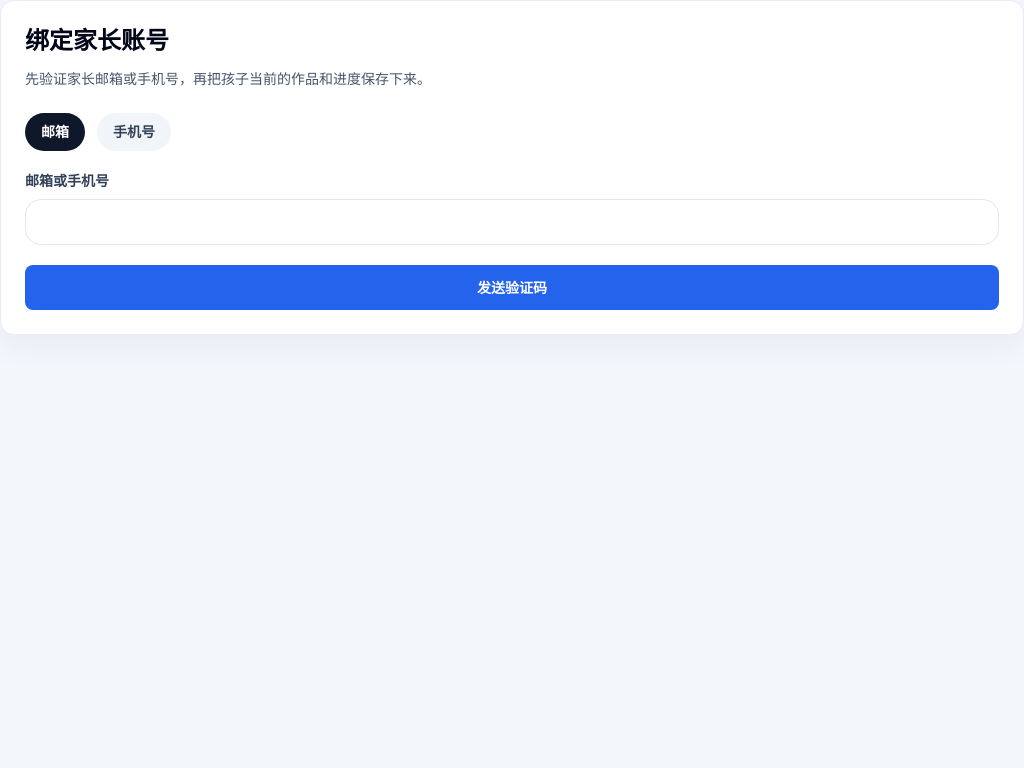
BindAccountForm › does not clear local progress when otp verification fails
Step 1. Type "family@example.com" into the field labelled "邮箱或手机号" → {"x": 512, "y": 222}, box [25, 199, 999, 245]
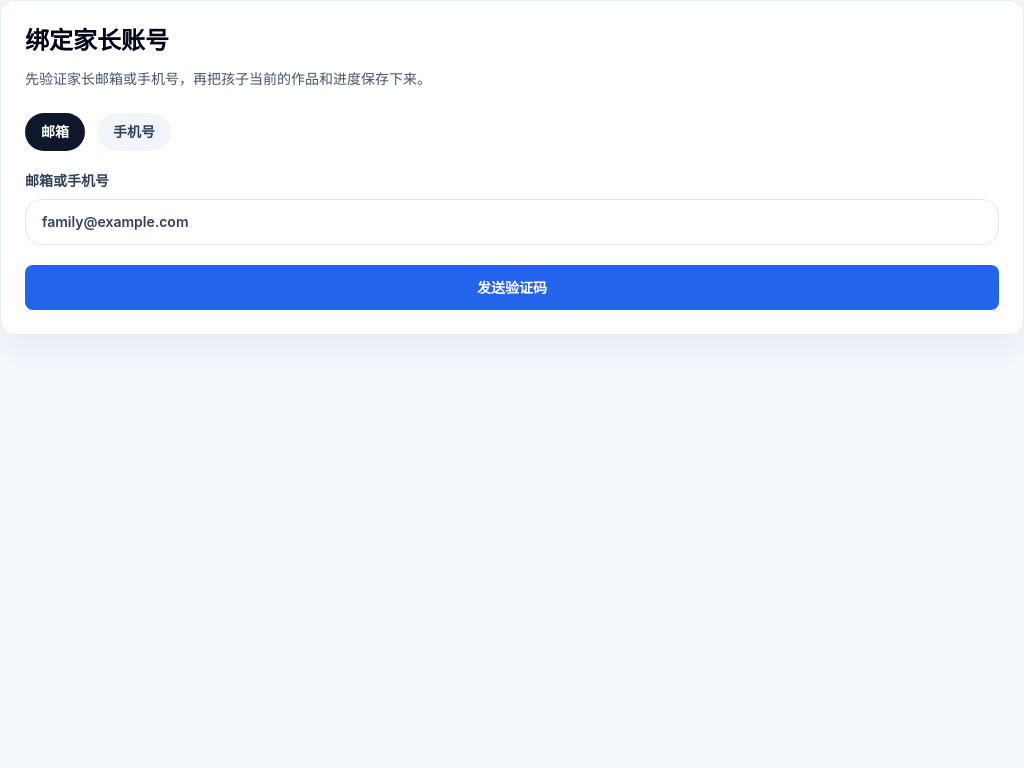
Step 2. Click the button "发送验证码" → {"x": 512, "y": 288}, box [25, 265, 999, 310]
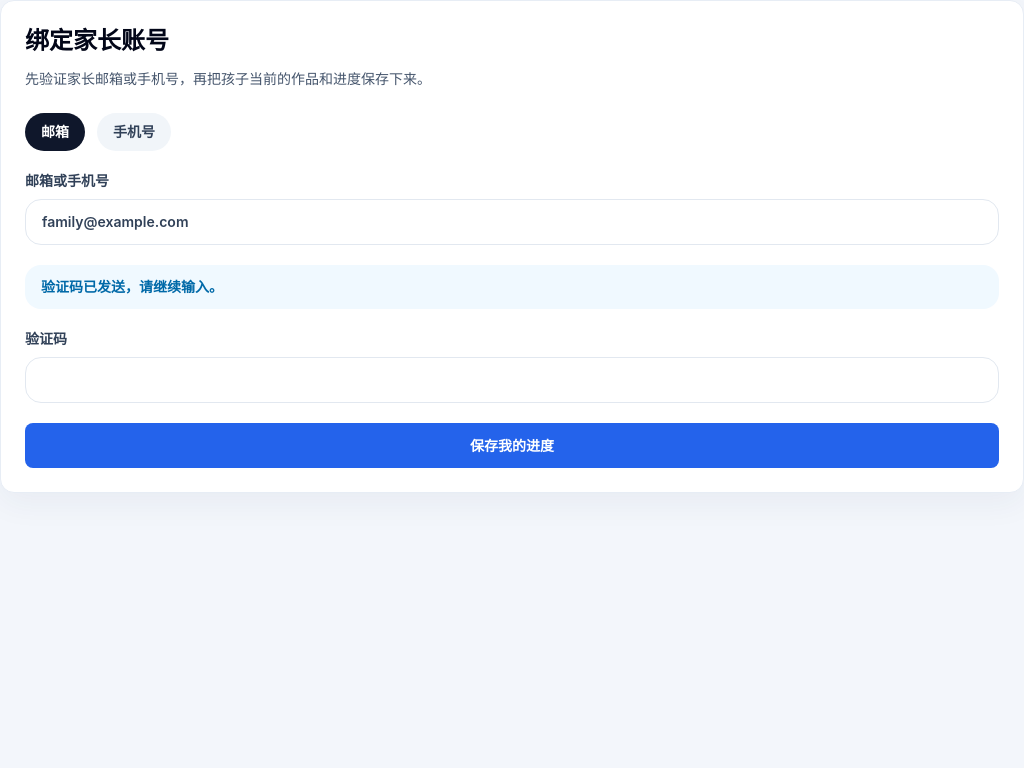
Step 3. Type "000000" into the field labelled "验证码" → {"x": 512, "y": 380}, box [25, 357, 999, 403]
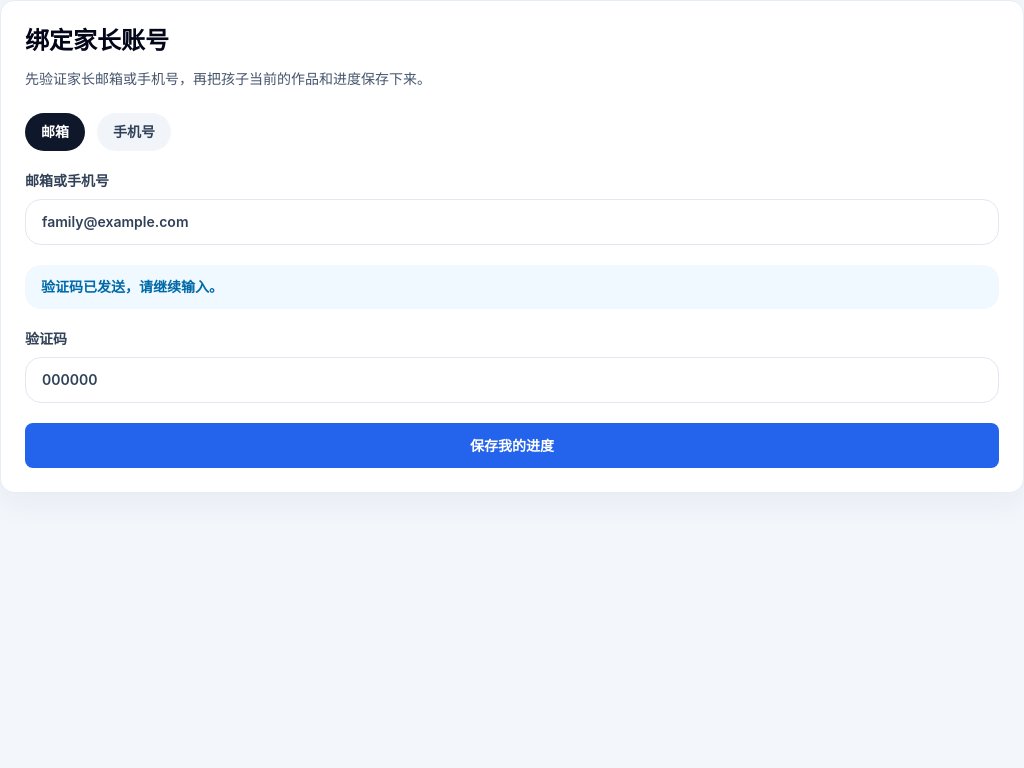
Step 4. Click the button "保存我的进度" → {"x": 512, "y": 446}, box [25, 423, 999, 468]
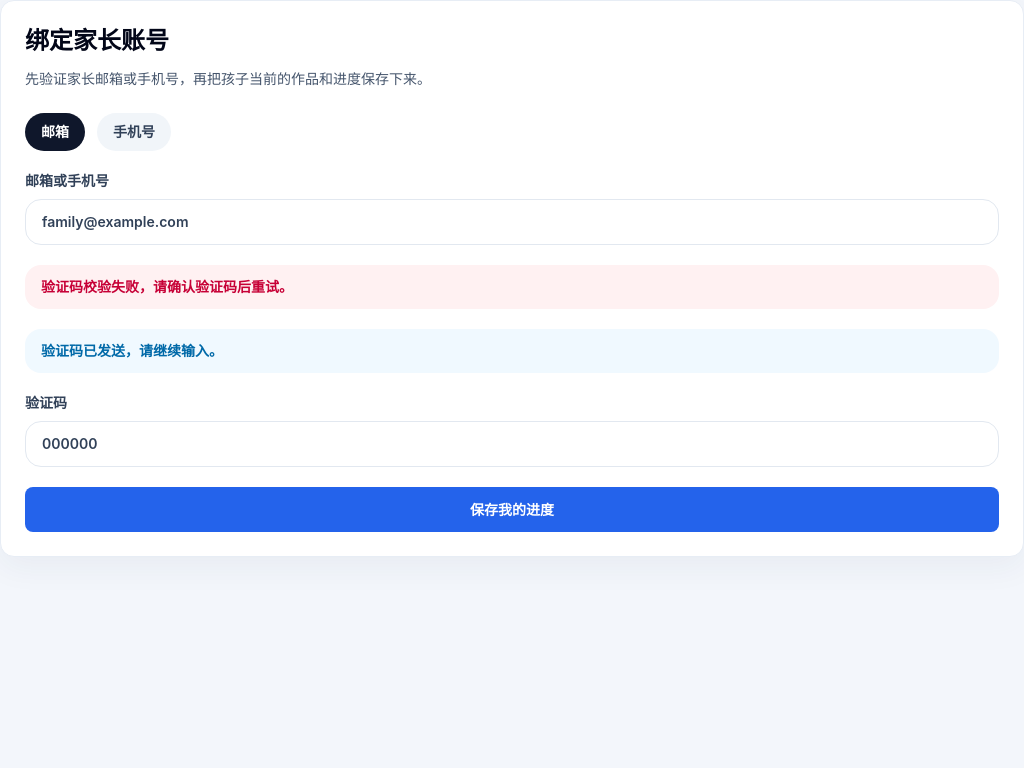
Expected: the text with test id "bind-account-error" shows "验证码校验失败", [41, 278, 293, 295]
